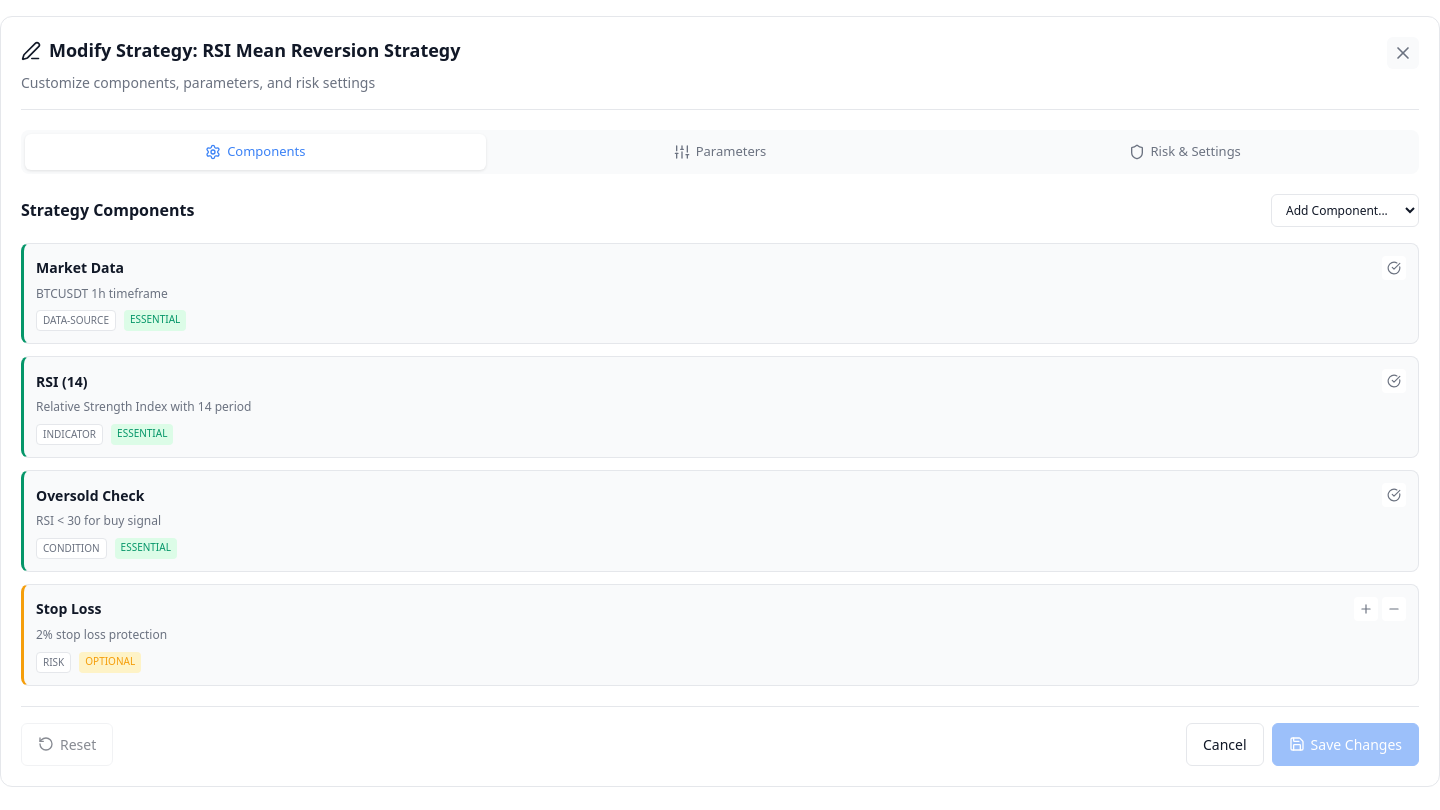
Test case: StrategyModifier Component › switches between tabs
Click on Parameters tab
Click the button "Parameters" at point(720, 152), box [490,134,950,170]
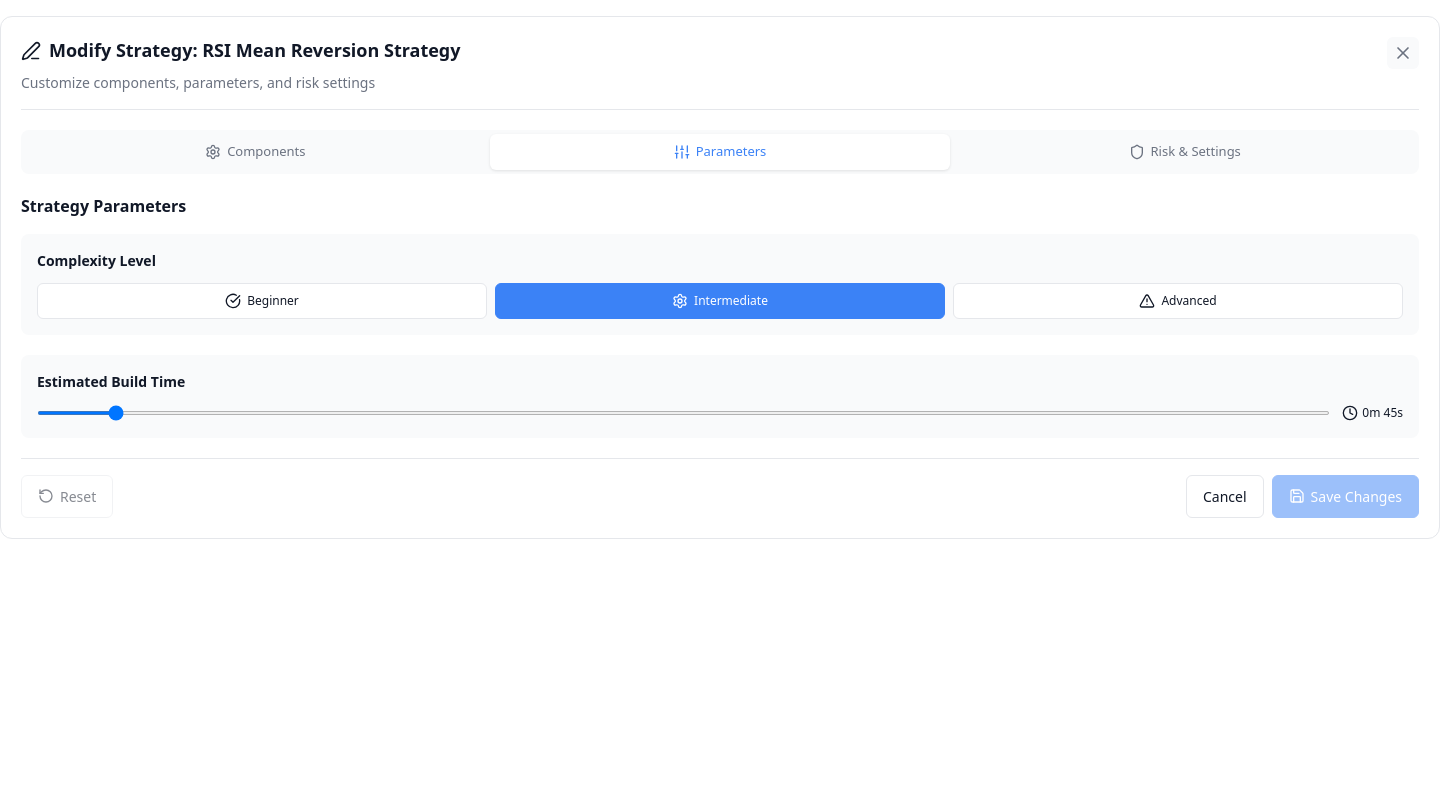
Check: the heading "Complexity Level" is shown, box [37,250,156,270]
Check: the heading "Estimated Build Time" is shown, box [37,372,185,390]
Click on Risk & Settings tab
Click the button "Risk & Settings" at point(1185, 152), box [954,134,1415,170]
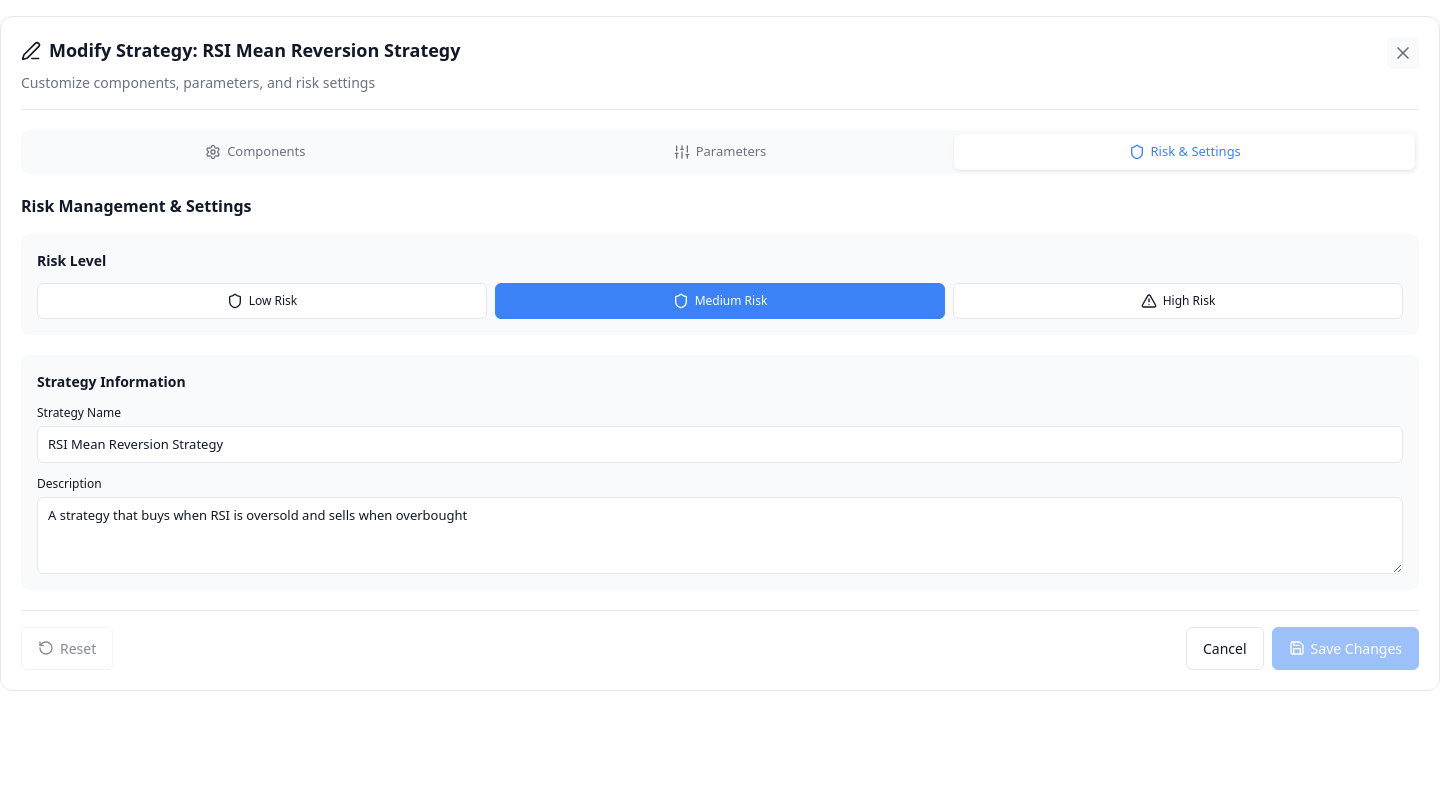
Check: the heading "Risk Level" is shown, box [37,250,106,270]
Check: the heading "Strategy Information" is shown, box [37,372,186,390]
